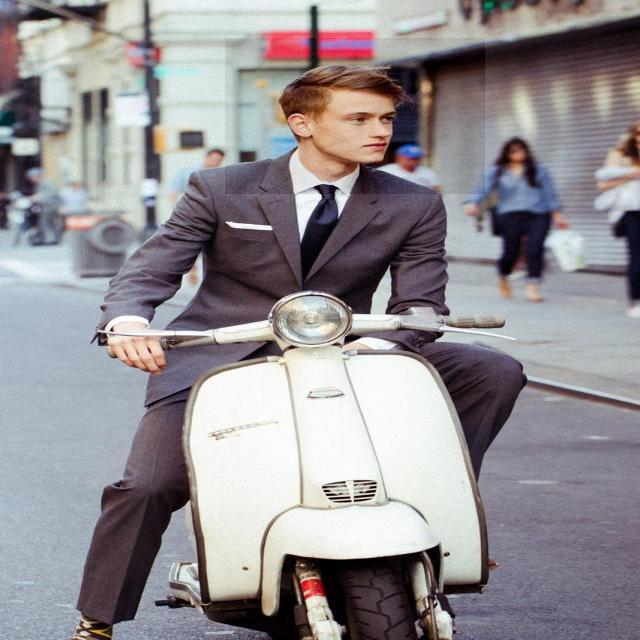No_Helmet: (225, 38, 486, 194)
